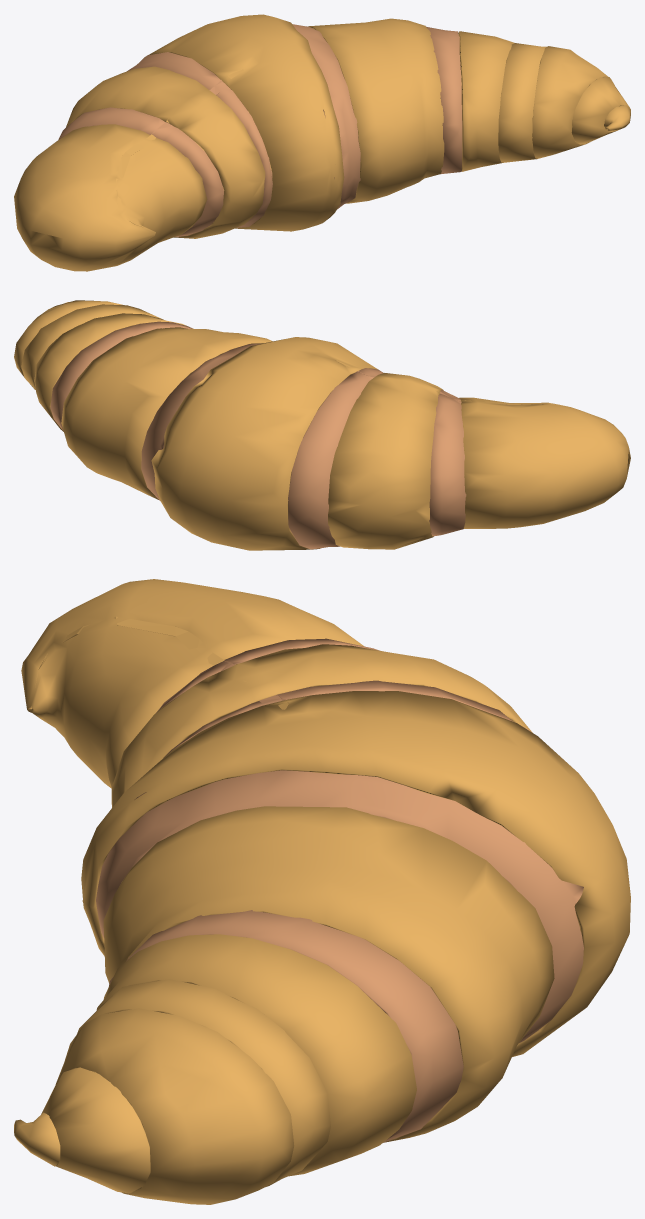
Rendered from croissant2.fbx.
The picture shows the model from 3 angles, top to bottom: view 1: azimuth 30°, elevation 25°; view 2: azimuth 150°, elevation 25°; view 3: azimuth 270°, elevation 25°; orthographic projection. The views are drawn at different scales.
Parts seen in each view (by area): view 1: Croissant_LD; view 2: Croissant_LD; view 3: Croissant_LD.
Boxes of the visible parts, bbox=[...] form: Croissant_LD: bbox=[14, 14, 630, 271]; Croissant_LD: bbox=[14, 300, 630, 550]; Croissant_LD: bbox=[14, 579, 630, 1204].
Bounding box in the file's own units: 467 × 135 × 227.
